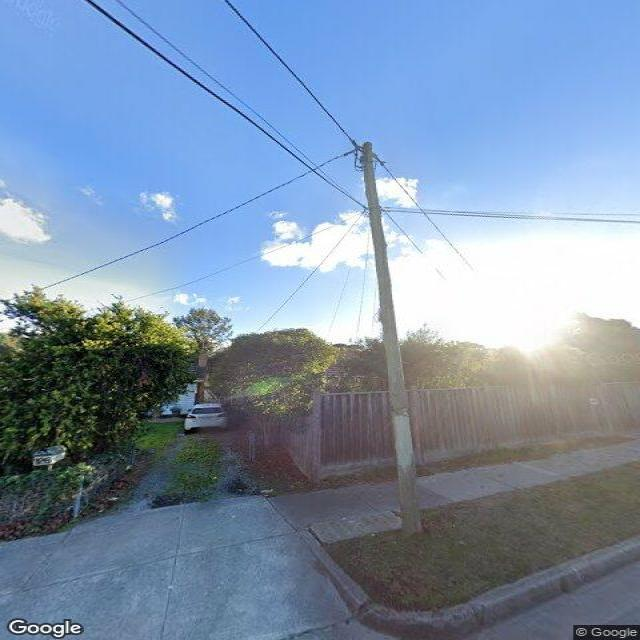timber-pole: (360, 142, 426, 544)
